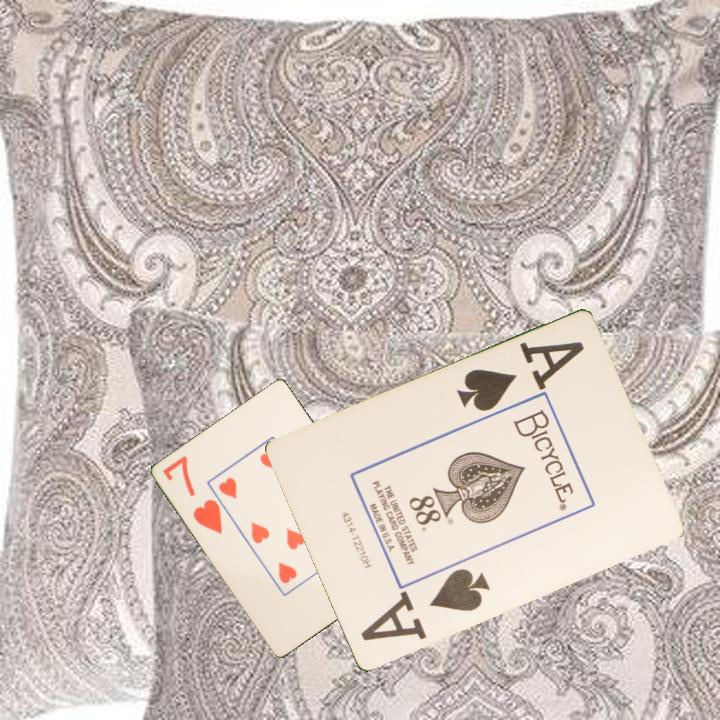7h: (159, 452, 226, 537)
As: (452, 338, 587, 415), (370, 565, 493, 637)
